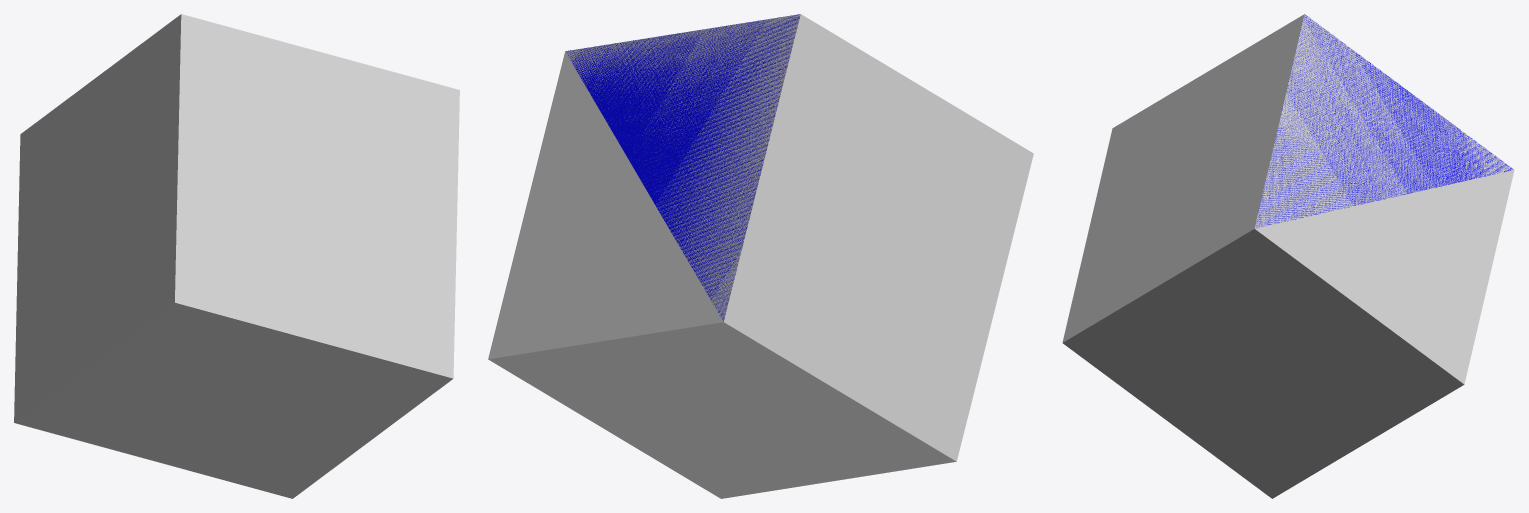
3 renders of one model, left to right at view 1: azimuth 30°, elevation 25°; view 2: azimuth 150°, elevation 25°; view 3: azimuth 270°, elevation 25°, orthographic. The views are drawn at different scales.
Parts seen in each view (by area): view 1: shtuchka; view 2: shtuchka, shtuchka3; view 3: shtuchka, shtuchka3.
Boxes of the visible parts, x1=… form: shtuchka: x1=14, y1=14, x2=459, y2=498; shtuchka: x1=488, y1=14, x2=1033, y2=498; shtuchka3: x1=566, y1=14, x2=799, y2=321; shtuchka: x1=1062, y1=14, x2=1514, y2=498; shtuchka3: x1=1255, y1=14, x2=1512, y2=228.
Bounding box in the file's own units: 350 × 406 × 374.
